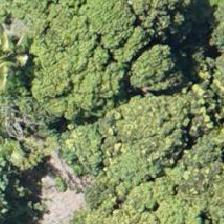coconut_tree: (0, 23, 47, 113)
